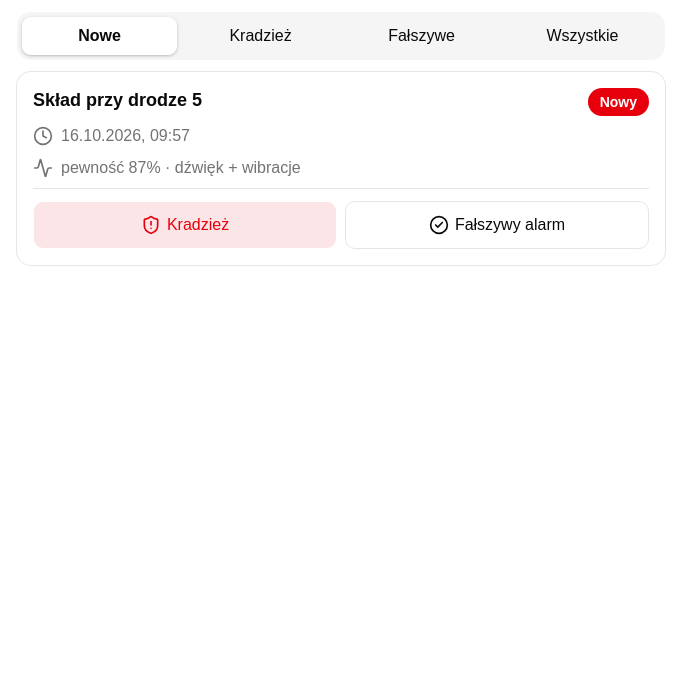
Scenario: AlarmsPage › shows all alarms newest first, with the response and the tampering note
Click the button "Wszystkie": {"x": 582, "y": 36} [504,16,661,56]
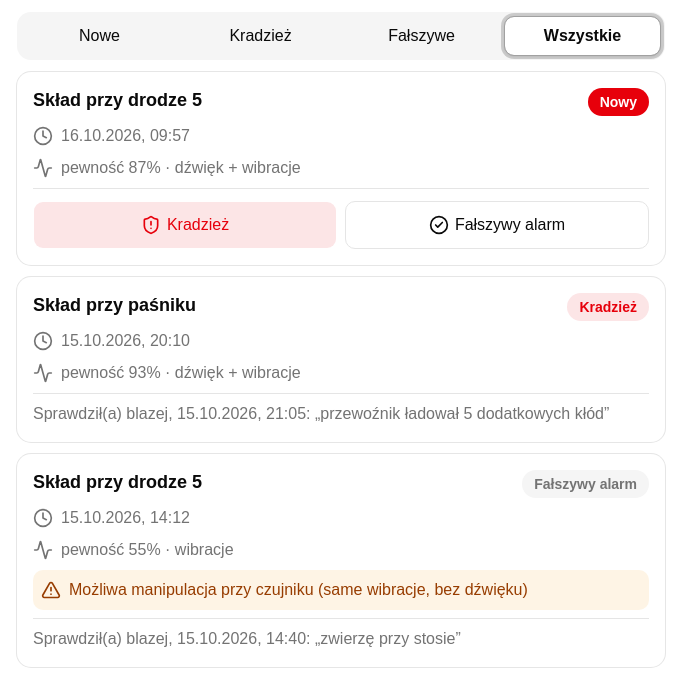
Result: the list item that starts with "Skład przy paśniku" shows "Kradzież" at [579,299,637,315]
Result: the list item that starts with "Skład przy paśniku" shows "Sprawdził(a) blazej" at [33,405,306,422]
Result: the list item that starts with "Skład przy paśniku" shows "„przewoźnik ładował 5 dodatkowych kłód”" at [306,405,609,422]
